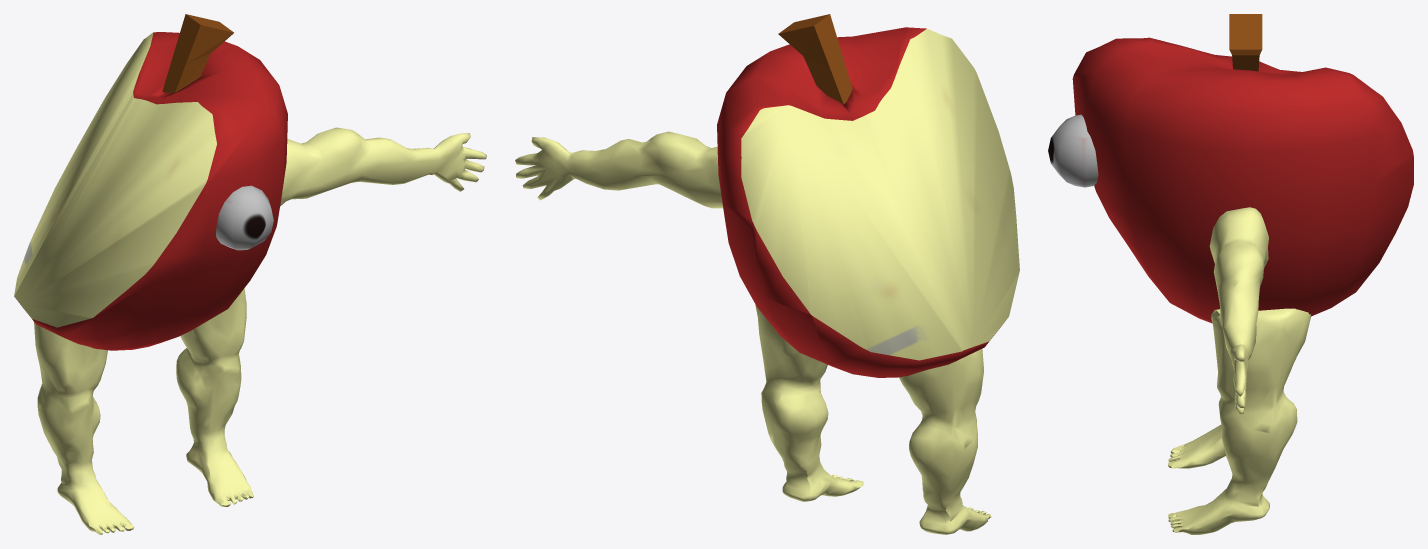
The model's file is hahen1.fbx.
3 renders of one model, left to right at view 1: azimuth 30°, elevation 25°; view 2: azimuth 150°, elevation 25°; view 3: azimuth 270°, elevation 25°, orthographic. The views are drawn at different scales.
Parts seen in each view (by area): view 1: hahen04, asi_leg_R_low.003, asi_leg_R_low.002, arm_lowpoly.004; view 2: hahen04, asi_leg_R_low.003, arm_lowpoly.004, asi_leg_R_low.002; view 3: hahen04, asi_leg_R_low.002, arm_lowpoly.004, asi_leg_R_low.003.
Boxes of the visible parts, left/top/right/bottom form: hahen04: left=14, top=14, right=287, bottom=350; asi_leg_R_low.003: left=33, top=321, right=134, bottom=534; asi_leg_R_low.002: left=176, top=288, right=253, bottom=506; arm_lowpoly.004: left=280, top=127, right=486, bottom=206; hahen04: left=717, top=14, right=1019, bottom=377; asi_leg_R_low.003: left=899, top=349, right=991, bottom=534; arm_lowpoly.004: left=515, top=131, right=723, bottom=208; asi_leg_R_low.002: left=755, top=305, right=864, bottom=501; hahen04: left=1048, top=14, right=1413, bottom=323; asi_leg_R_low.002: left=1168, top=308, right=1310, bottom=534; arm_lowpoly.004: left=1209, top=207, right=1268, bottom=414; asi_leg_R_low.003: left=1168, top=358, right=1296, bottom=468.
Bounding box in the file's own units: 61.53 × 60.6 × 39.58.
2 materials, 2 textured.
